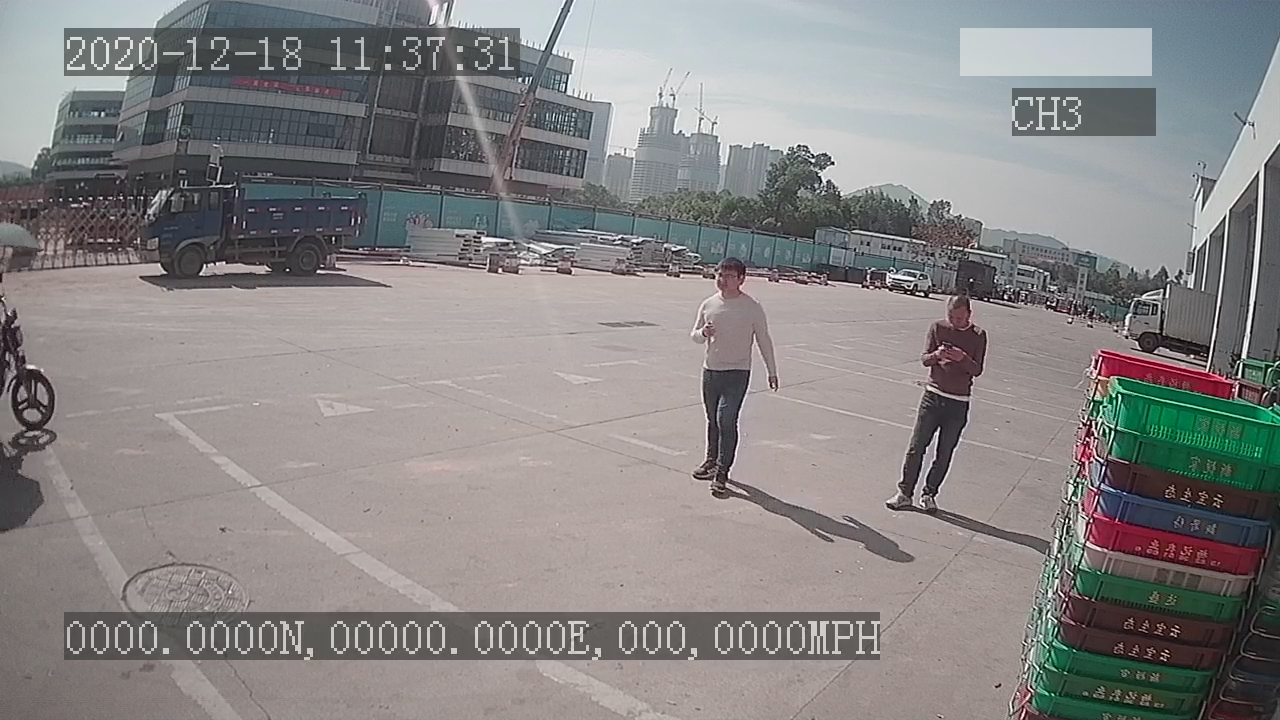person: (684, 255, 786, 498), (882, 288, 986, 517)
